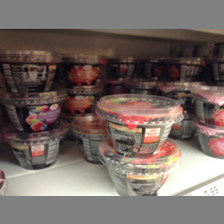jam: (96, 92, 186, 157), (99, 134, 181, 195), (1, 128, 68, 168), (1, 93, 67, 132), (1, 51, 59, 93), (62, 53, 108, 85), (164, 57, 203, 81), (105, 56, 140, 80)
